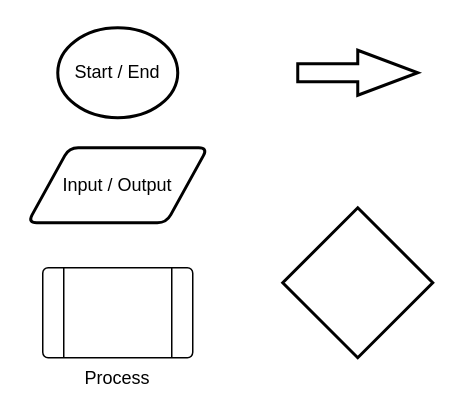
Some shapes in this 459 by 414 pixel diagram are drawn without their labels. Here are the shapes that lost their labels. From the top down, the centre of each, then its label:
At point (357, 72): "Flow".
At point (357, 282): "Decision".
